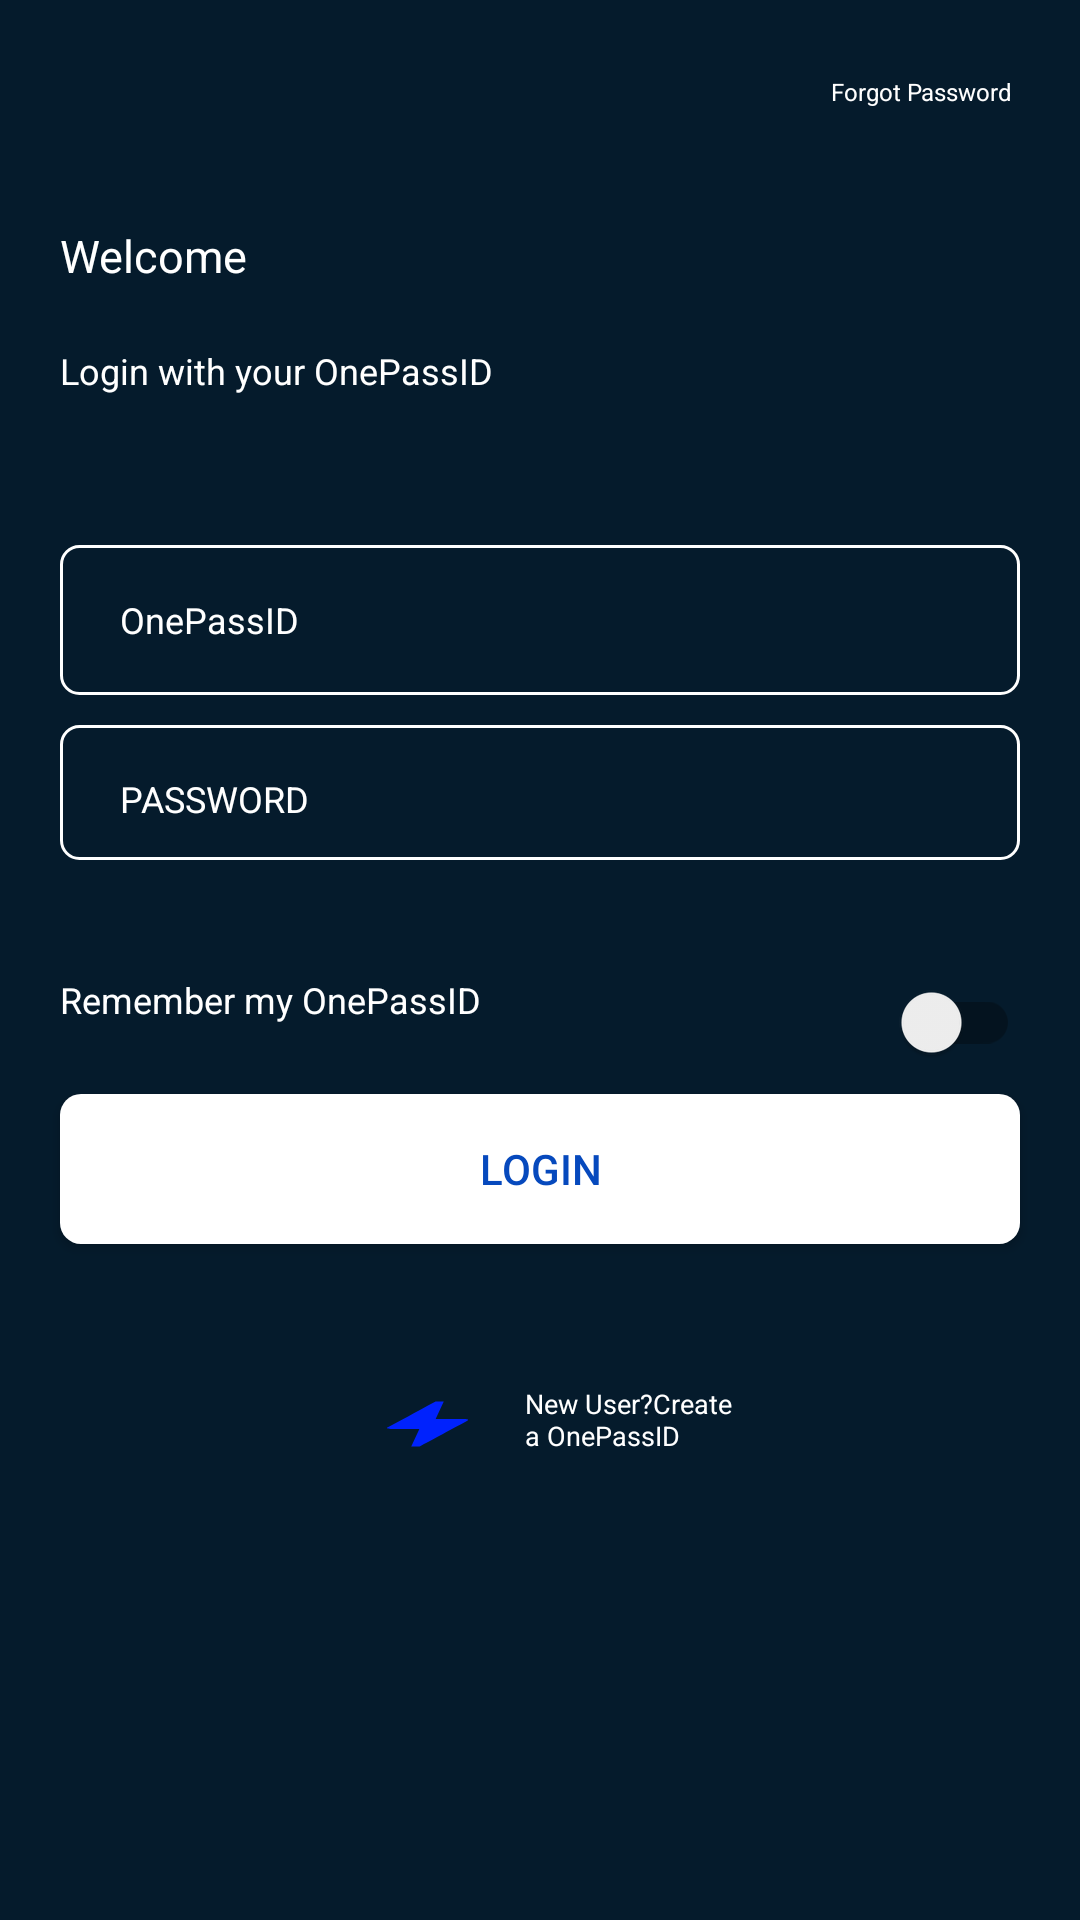

Icons on this 1080px x 1920px Android screen, each with the point to tap as [x,y]:
bolt: [427,1424]
